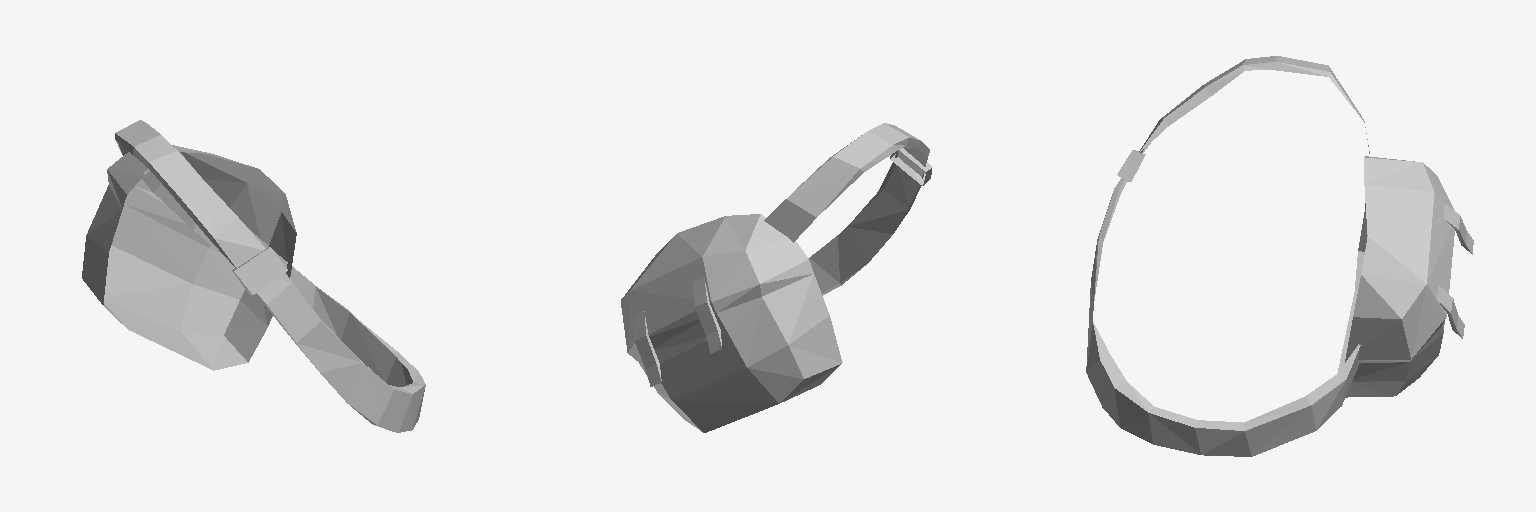
The model's file is rebelbag_f.obj.
3 views of the same model, side by side, from view 1: azimuth 30°, elevation 25°; view 2: azimuth 150°, elevation 25°; view 3: azimuth 270°, elevation 25° (orthographic).
Visible parts, largest first — view 1: female_01_reference.002; view 2: female_01_reference.002; view 3: female_01_reference.002.
Boxes of the visible parts, box(x1,y1,x2,y2) form: female_01_reference.002: box(82, 120, 425, 432); female_01_reference.002: box(621, 123, 931, 432); female_01_reference.002: box(1086, 56, 1473, 456).
Bounding box in the file's own units: 11.64 × 13.06 × 15.61.